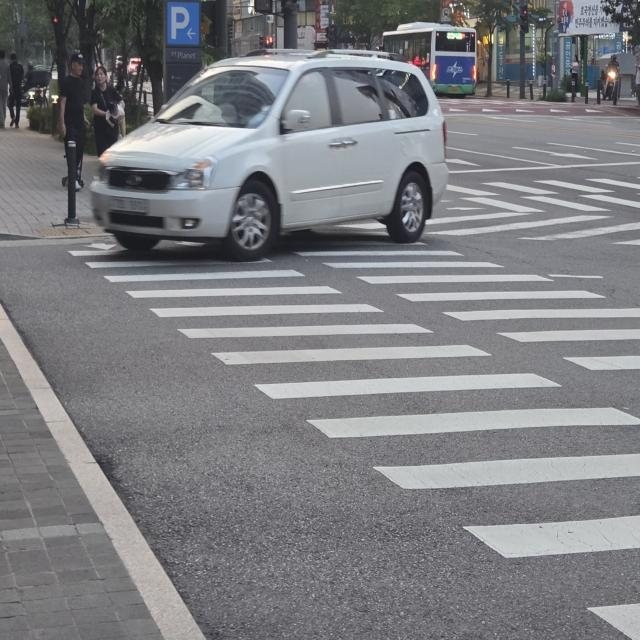car: (76, 26, 457, 275)
